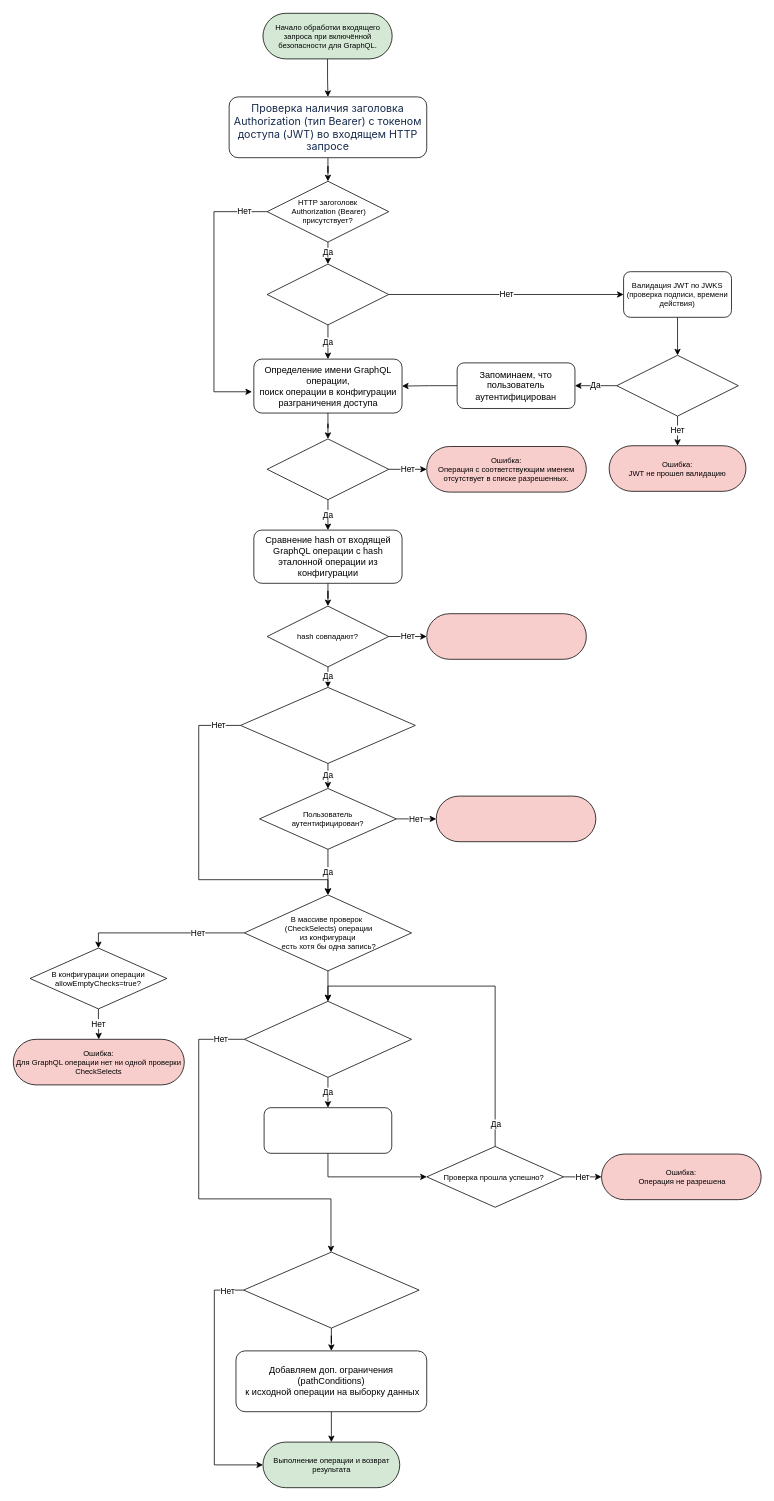
Some shapes in this 774 by 1501 pixel diagram are drawn without their labels. The shapes that lost their labels are listed below. From the top down, each one's centre as x and y in pixels, then its label:
At pixel 327 294: "dataspace.security.jwt. validation.disable=true".
At pixel 677 385: "Валидация прошла успешно?".
At pixel 327 469: "Конфигурация операции найдена?".
At pixel 506 636: "Ошибка: Не совпадает текущий и сохраненный хеш операции".
At pixel 327 725: "У найденной в конфигурации GraphQL операции disableJwtVerification=false?".
At pixel 515 818: "Ошибка: Пользователь не аутентифицирован".
At pixel 328 1039: "В массиве проверок конфигурации операции остались невыполненные? (CheckSelects)".
At pixel 327 1130: "Выполняем первую невыполненную проверку".
At pixel 331 1289: "В массиве доп. ограничений конфигурации операции есть записи? (pathConditions)".
